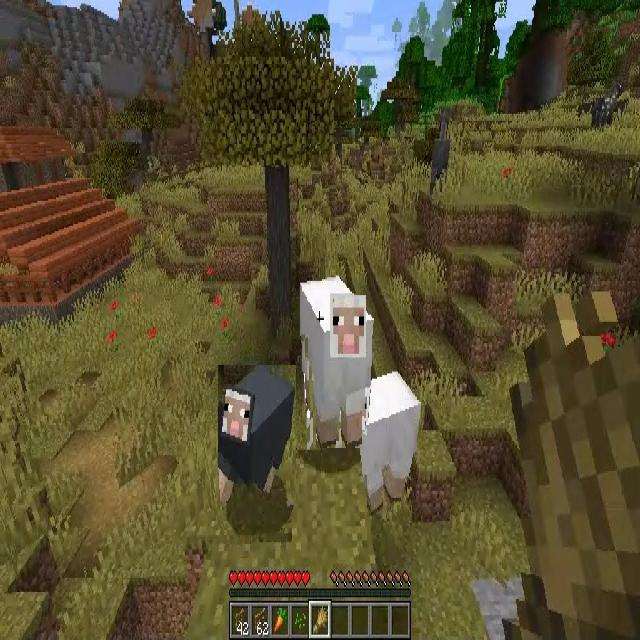sheep: (306, 274, 372, 449), (218, 365, 296, 501)
